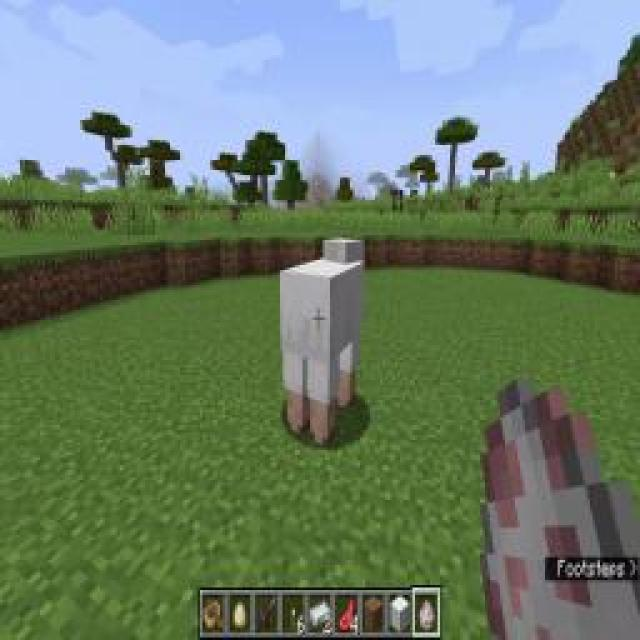Sheep: (276, 235, 369, 450)
